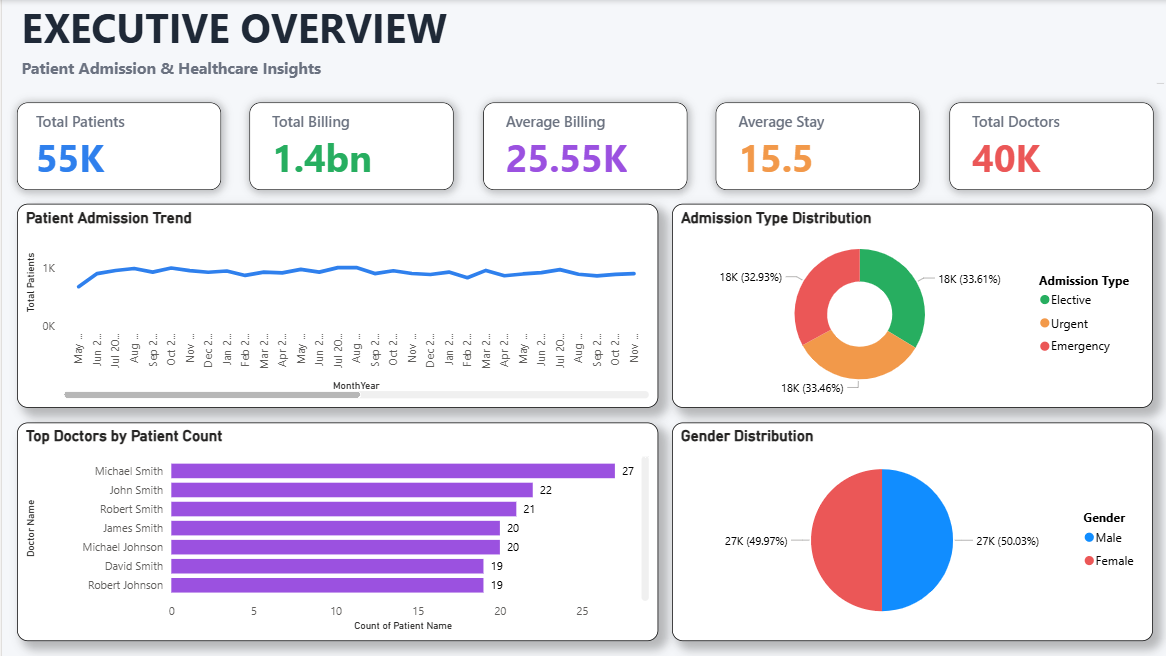

The page's visual inventory and layout, read from the dashboard file:
{"tool":"powerbi","page":{"name":"Page 1","canvas":[1280,720],"ordinal":0},"visuals":[{"type":"cardVisual","fields":{"Data":["healthcare_dataset.Total Patients"]},"box":[16,112,224,96],"z":0},{"type":"cardVisual","fields":{"Data":["healthcare_dataset.Total Billing"]},"box":[272,112,224,96],"z":1000},{"type":"cardVisual","fields":{"Data":["healthcare_dataset.Average Billing"]},"box":[528,112,224,96],"z":2000},{"type":"cardVisual","fields":{"Data":["healthcare_dataset.Total Doctors"]},"box":[1040,112,224,96],"z":3000},{"type":"cardVisual","fields":{"Data":["healthcare_dataset.Avg Stay"]},"box":[784,112,224,96],"z":4000},{"type":"lineChart","title":"Patient Admission Trend","fields":{"Y":["healthcare_dataset.Total Patients"],"Category":["healthcare_dataset.MonthYear"]},"box":[16,224,704,224],"z":5000},{"type":"textbox","title":"EXECUTIVE OVERVIEW","box":[16,0,1264,96],"z":6000},{"type":"donutChart","title":"Admission Type Distribution","fields":{"Category":["healthcare_dataset.Admission Type"],"Y":["healthcare_dataset.Total Patients"]},"box":[736,224,528,224],"z":7000},{"type":"clusteredBarChart","title":"Top Doctors by Patient Count","fields":{"Category":["healthcare_dataset.Doctor Name"],"Y":["CountNonNull(healthcare_dataset.Patient Name)"]},"box":[16,464,704,240],"z":8000},{"type":"pieChart","title":"Gender Distribution","fields":{"Category":["healthcare_dataset.Gender"],"Y":["healthcare_dataset.Total Patients"]},"box":[736,464,528,240],"z":9000}]}

Visuals, with their boxes in screenshot pixels (x1, y1, x2, y2), scaled from the page's 1280x720 canvas onto the 1166x656 screenshot:
cardVisual - healthcare_dataset.Total Patients: 15 102 219 190
cardVisual - healthcare_dataset.Total Billing: 248 102 452 190
cardVisual - healthcare_dataset.Average Billing: 481 102 685 190
cardVisual - healthcare_dataset.Total Doctors: 947 102 1151 190
cardVisual - healthcare_dataset.Avg Stay: 714 102 918 190
"Patient Admission Trend" lineChart: 15 204 656 408
"EXECUTIVE OVERVIEW" textbox: 15 0 1165 87
"Admission Type Distribution" donutChart: 670 204 1151 408
"Top Doctors by Patient Count" clusteredBarChart: 15 423 656 641
"Gender Distribution" pieChart: 670 423 1151 641
